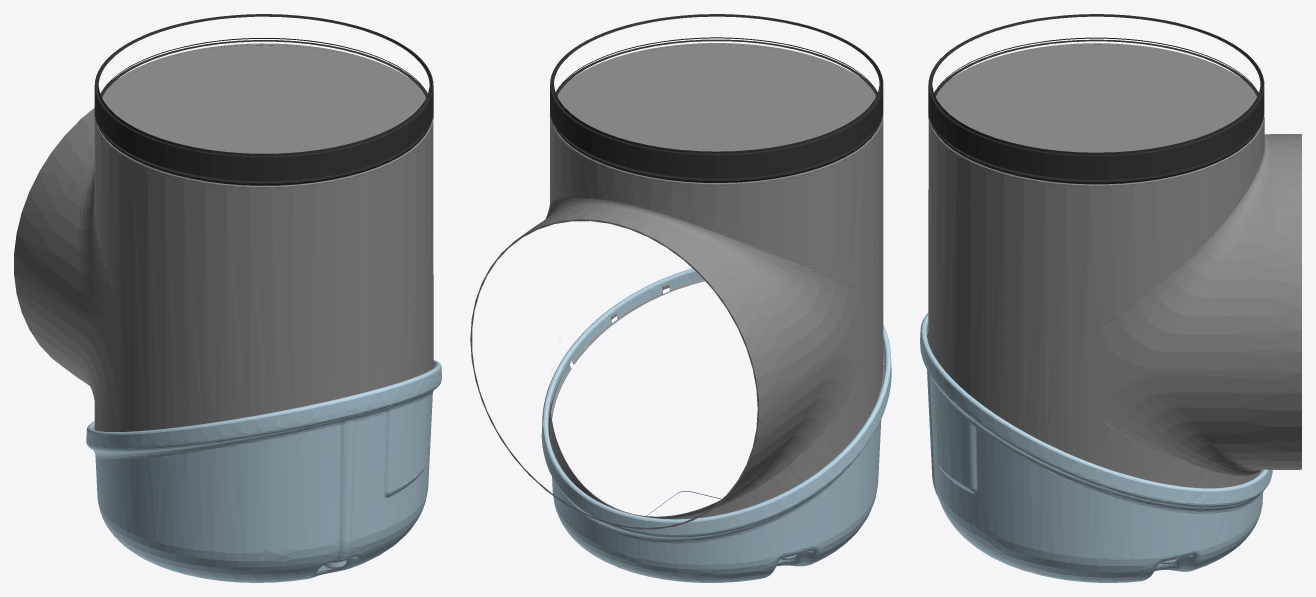
Rendered from wrist2.glb.
3 renders of one model, left to right at view 1: azimuth 30°, elevation 25°; view 2: azimuth 150°, elevation 25°; view 3: azimuth 270°, elevation 25°, orthographic.
Visible parts, largest first — view 1: world; view 2: world; view 3: world.
Part boxes in pixels (x1,y1,x2,y2): world: (14,14,441,582); world: (470,14,891,582); world: (920,14,1301,582).
Bounding box in the file's own units: 0.0787 × 0.1099 × 0.0852.
1 material, 1 textured.
